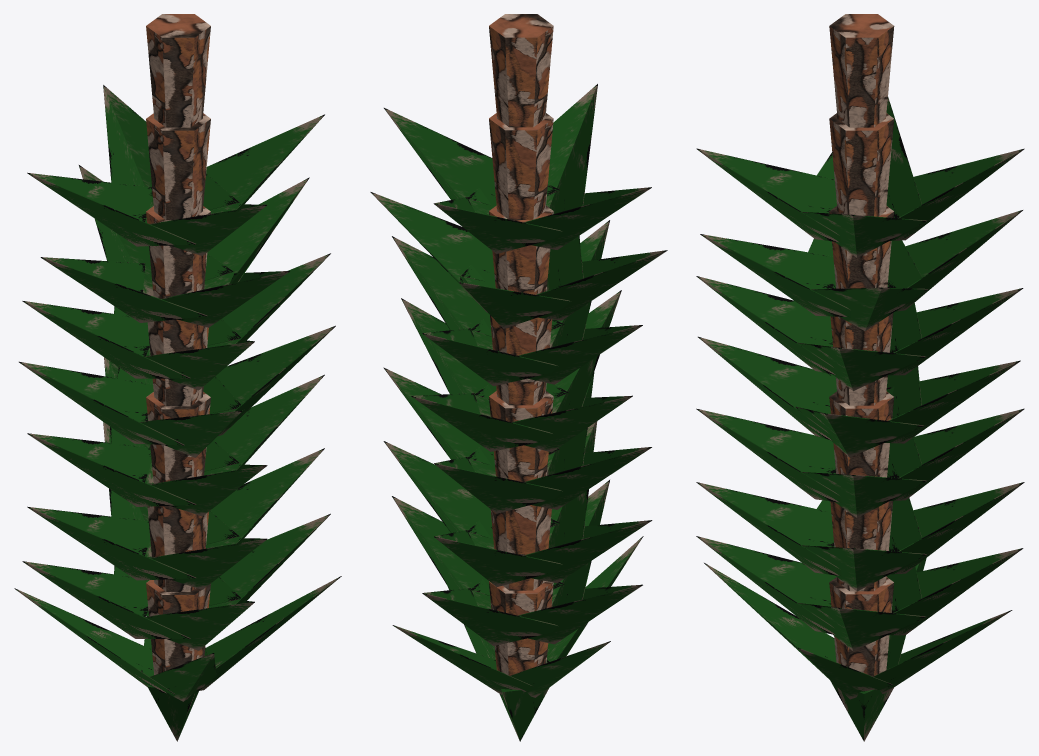
Rendered from mod_natural_tree5.fbx.
The picture shows the model from 3 angles, left to right: view 1: azimuth 30°, elevation 25°; view 2: azimuth 150°, elevation 25°; view 3: azimuth 270°, elevation 25°; orthographic projection.
Visible parts, largest first — view 1: mesh_tree5_trunk, Cylinder, Cylinder.001, Cylinder.005, Cylinder.003, Cylinder.002, Cylinder.006, Cylinder.004; view 2: mesh_tree5_trunk, Cylinder, Cylinder.001, Cylinder.006, Cylinder.003, Cylinder.005, Cylinder.004, Cylinder.002; view 3: mesh_tree5_trunk, Cylinder, Cylinder.001, Cylinder.006, Cylinder.003, Cylinder.005, Cylinder.004, Cylinder.002.
Part boxes in pixels (<box>): mesh_tree5_trunk: <box>14,85,341,741</box>; Cylinder: <box>146,14,210,127</box>; Cylinder.001: <box>146,113,210,220</box>; Cylinder.005: <box>147,506,208,591</box>; Cylinder.003: <box>147,319,208,406</box>; Cylinder.002: <box>146,206,210,298</box>; Cylinder.006: <box>146,580,210,674</box>; Cylinder.004: <box>146,392,210,483</box>; mesh_tree5_trunk: <box>370,84,667,741</box>; Cylinder: <box>489,14,553,127</box>; Cylinder.001: <box>489,113,553,219</box>; Cylinder.006: <box>489,581,553,675</box>; Cylinder.003: <box>490,315,552,405</box>; Cylinder.005: <box>490,505,551,590</box>; Cylinder.004: <box>489,391,553,482</box>; Cylinder.002: <box>489,205,553,294</box>; mesh_tree5_trunk: <box>696,97,1024,741</box>; Cylinder: <box>829,14,894,127</box>; Cylinder.001: <box>829,113,894,216</box>; Cylinder.006: <box>829,577,894,676</box>; Cylinder.003: <box>830,313,893,405</box>; Cylinder.005: <box>830,501,893,591</box>; Cylinder.004: <box>829,391,894,477</box>; Cylinder.002: <box>829,206,894,288</box>.
Size of the model in its own units: 4815 by 11582 by 4816.
